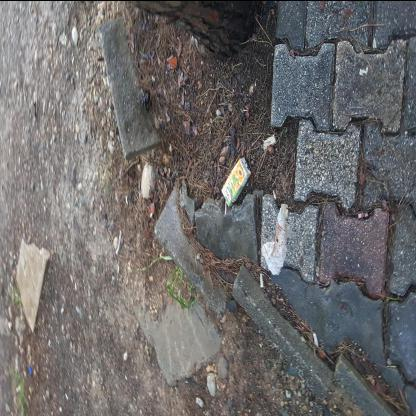karton: (157, 166, 207, 196)
